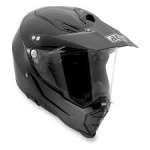Helmet: (9, 5, 140, 140)
